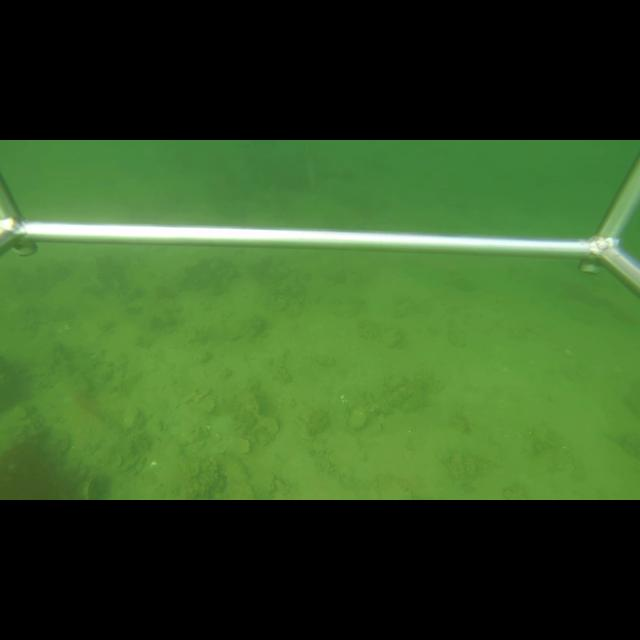Oyster-Closed: (346, 404, 368, 431), (380, 328, 404, 349)
